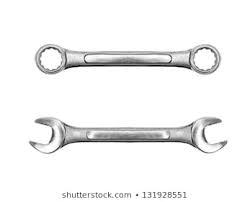wrench: (26, 112, 228, 155), (33, 41, 221, 75)
